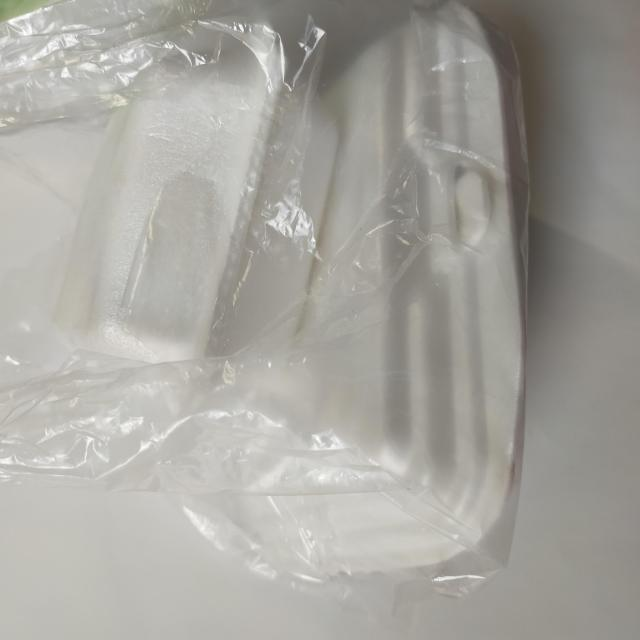styrofoam: (1, 1, 533, 632)
